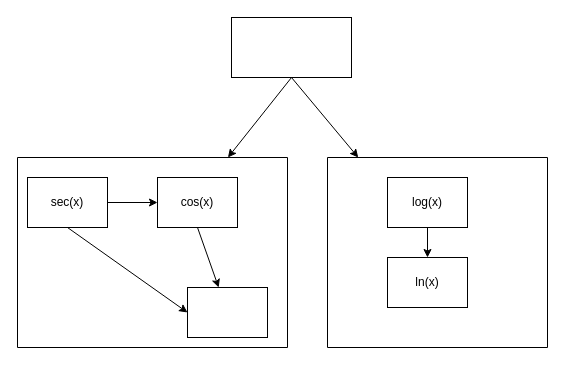
This 565x365 diagram has some shape labels left out. The centre of each missing label's shape, as x and y in pixels:
"sin(x)" goes at point 227,312.
"Система функций" goes at point 291,47.
